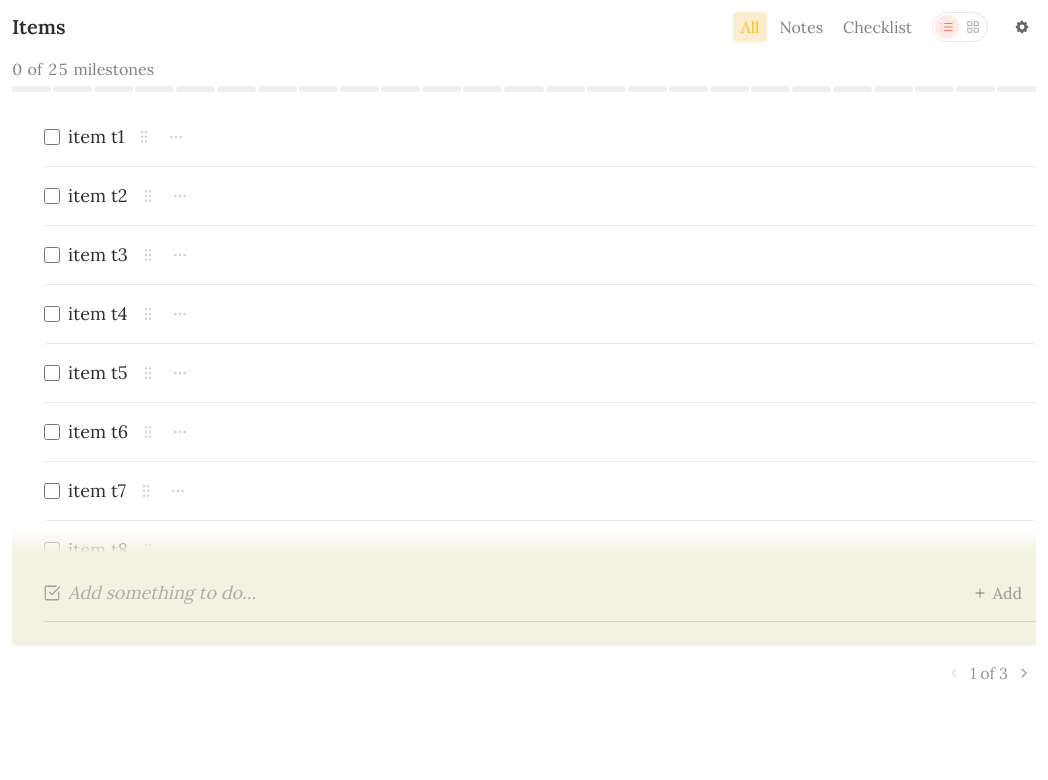
Test: Todo paging › should walk pages with next and previous, disabling each at its end
Expected: the text "item t1" is shown, x1=68 y1=124 x2=124 y2=150
Expected: the button named "Previous page" is disabled, x1=946 y1=665 x2=962 y2=681
Click the button named "Next page" at (1024, 673), box x1=1016 y1=665 x2=1032 y2=681
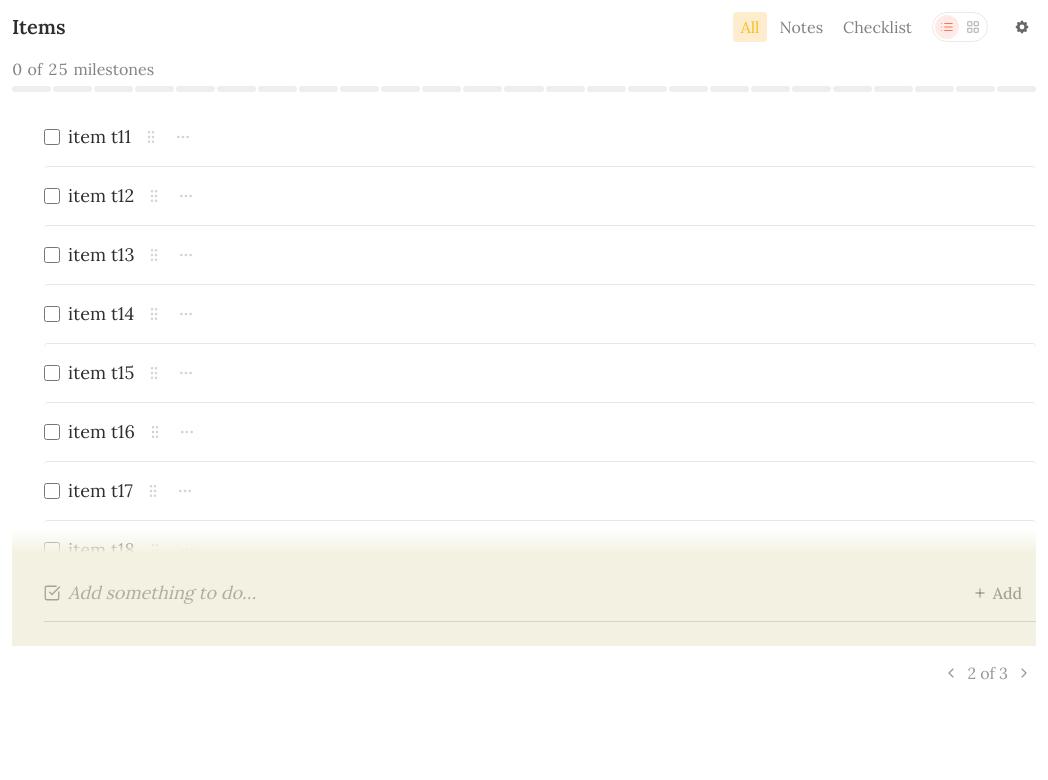
Now the text "item t11" is shown, box x1=68 y1=124 x2=131 y2=150
Now the text with test id "page-counter" reads "2 of 3", box x1=967 y1=662 x2=1008 y2=684
Now the button named "Previous page" is enabled, box x1=943 y1=665 x2=959 y2=681
Click the button named "Next page" at (1024, 673), box x1=1016 y1=665 x2=1032 y2=681
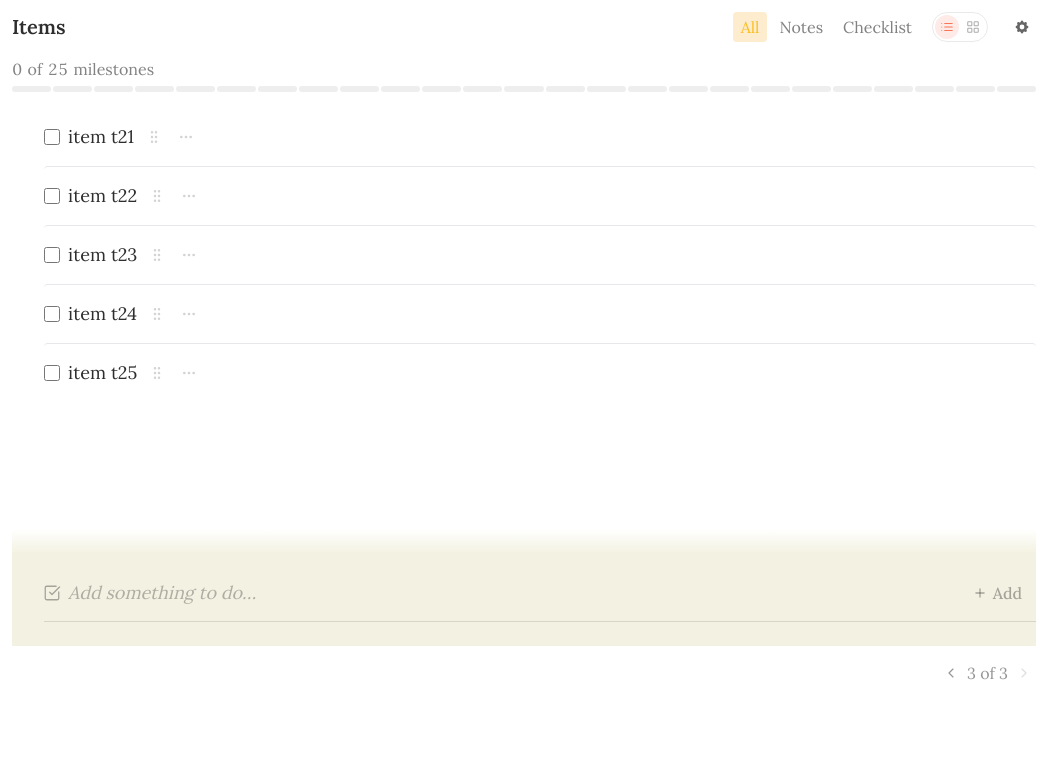
Now the text "item t25" is shown, box x1=68 y1=360 x2=137 y2=386
Now the text with test id "page-counter" reads "3 of 3", box x1=967 y1=662 x2=1008 y2=684
Now the button named "Next page" is disabled, box x1=1016 y1=665 x2=1032 y2=681
Click the button named "Previous page" at (951, 673), box x1=943 y1=665 x2=959 y2=681
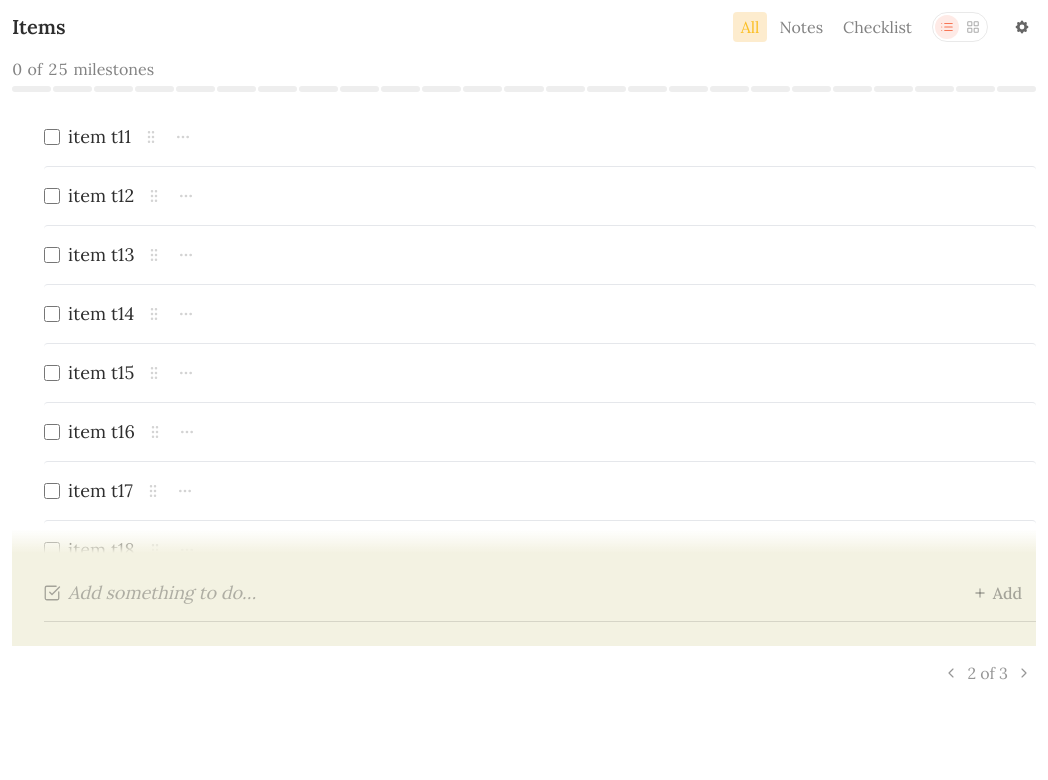
Now the text with test id "page-counter" reads "2 of 3", box x1=967 y1=662 x2=1008 y2=684
